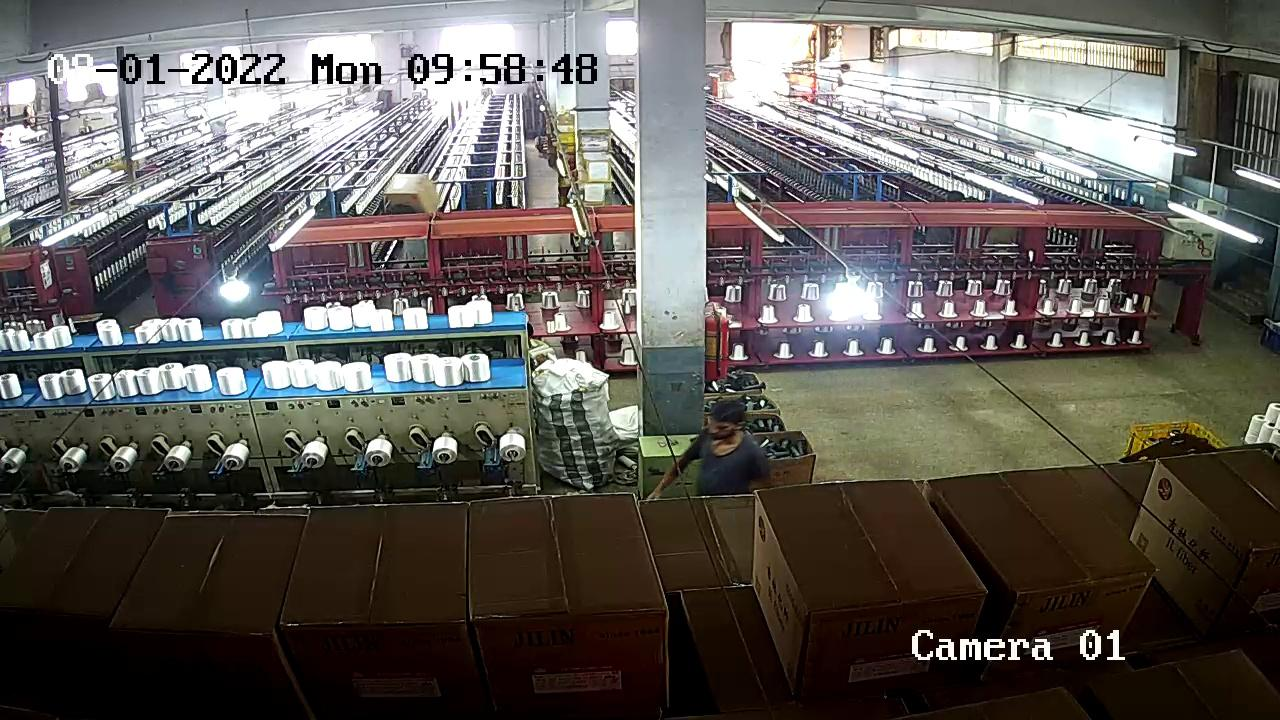person: (686, 410, 762, 475)
